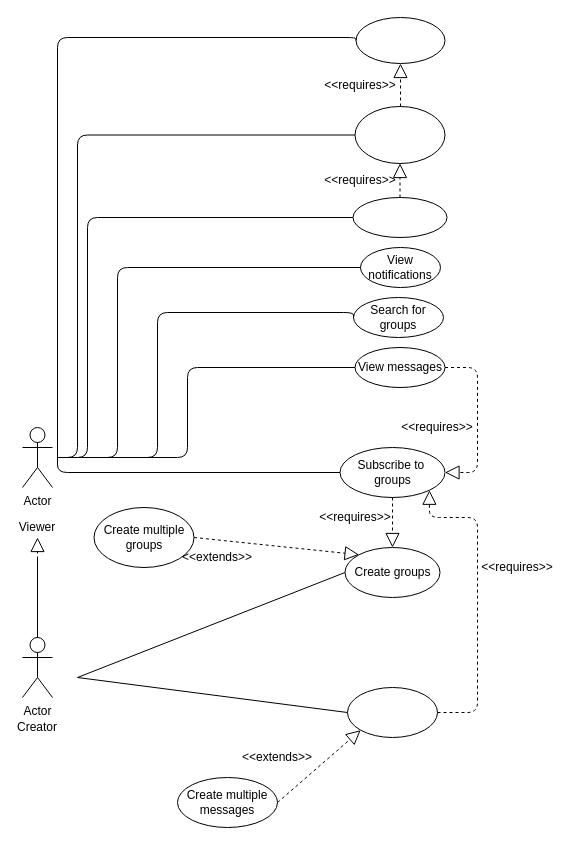
This 570x845 diagram has some shape labels left out. Each missing label, with the centre of its shape:
Create account: [400,40]
Edit account details: [399,217]
Send messages: [392,712]
Sign into account: [399,135]
